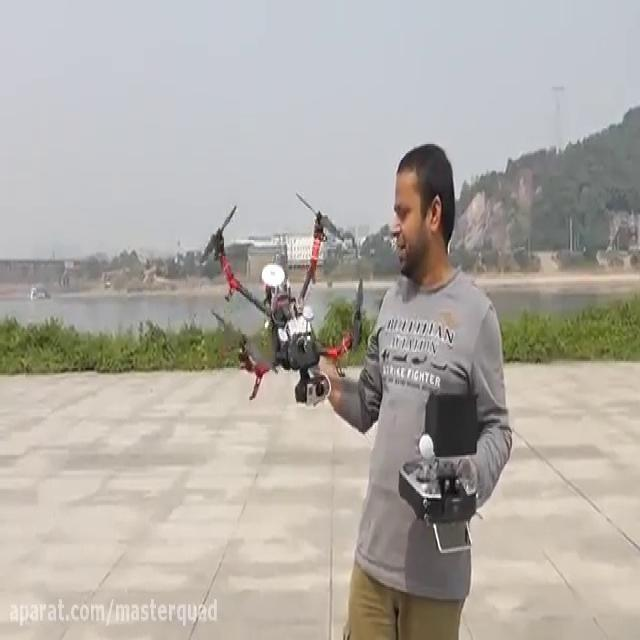drone: (194, 186, 369, 408)
